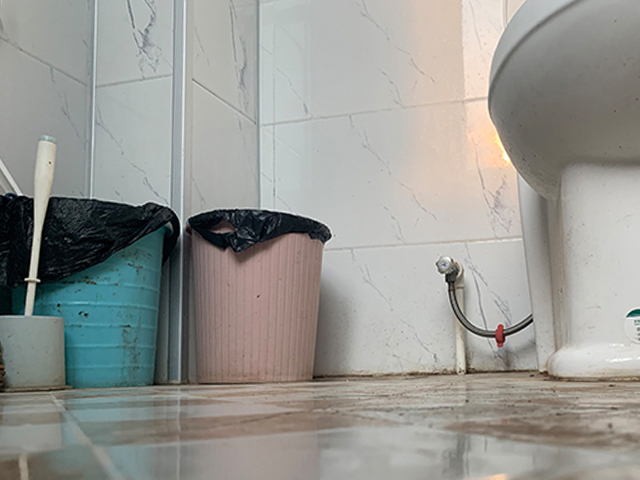closestool: (488, 1, 640, 381)
trashcan: (9, 196, 180, 387), (185, 208, 332, 385)
